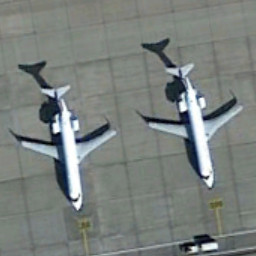Airplane: (10, 78, 125, 218), (143, 54, 248, 206)
